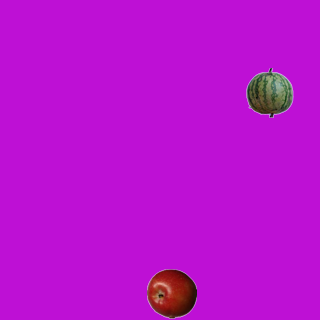Apple Braeburn: (146, 268, 196, 318)
Watermelon: (244, 67, 294, 117)
